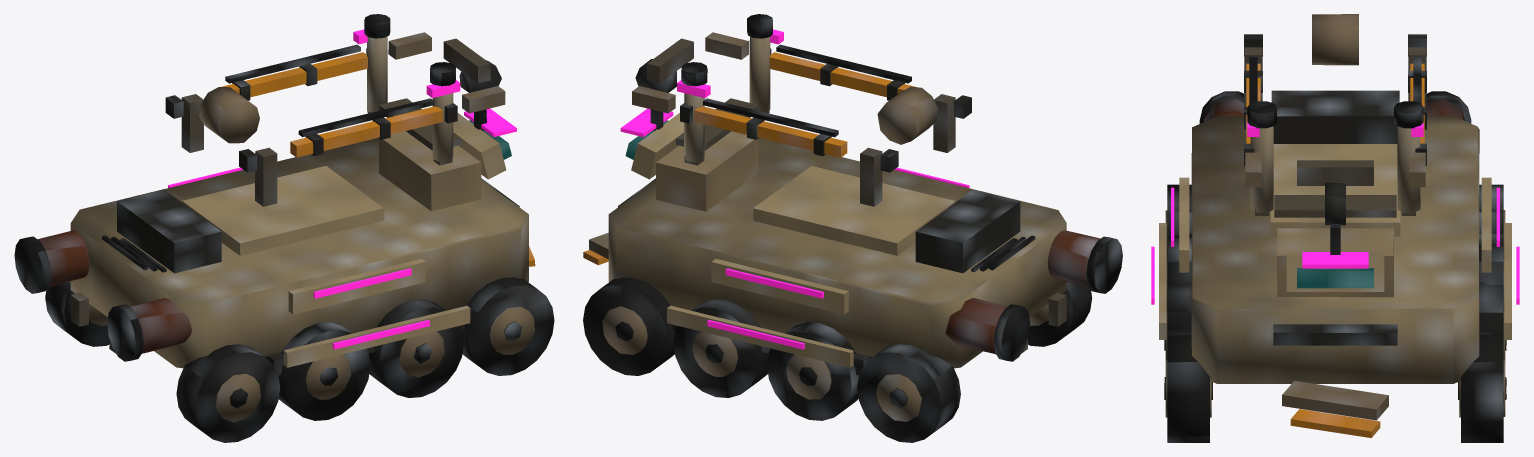
Rendered from mcv.glb.
3 views of the same model, side by side, from view 1: azimuth 30°, elevation 25°; view 2: azimuth 150°, elevation 25°; view 3: azimuth 270°, elevation 25° (orthographic). The views are drawn at different scales.
Parts seen in each view (by area): view 1: Sandwar3D; view 2: Sandwar3D; view 3: Sandwar3D.
Part boxes in pixels (x1=…): Sandwar3D: x1=14, y1=14, x2=554, y2=442; Sandwar3D: x1=583, y1=14, x2=1122, y2=442; Sandwar3D: x1=1151, y1=14, x2=1519, y2=442.
Bounding box in the file's own units: 2.77 × 1.62 × 1.71.
13 materials, 12 textured.
